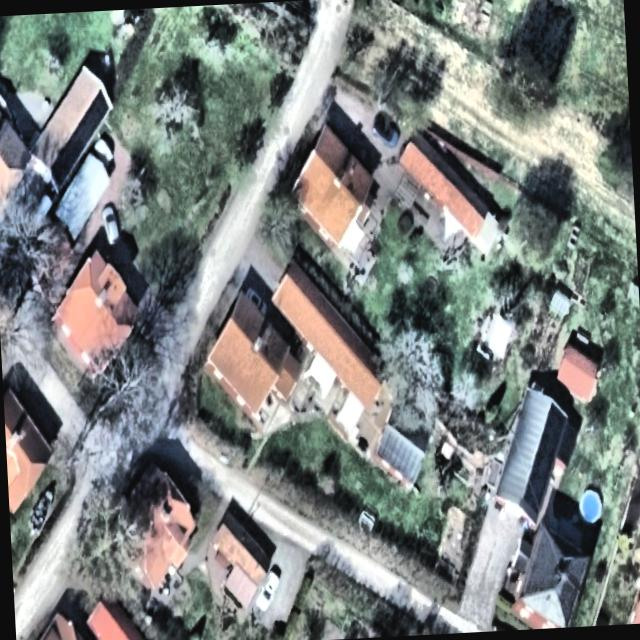roof_pv: (520, 436, 550, 528), (45, 128, 77, 198), (542, 399, 570, 479), (70, 96, 96, 164), (91, 88, 113, 130)
